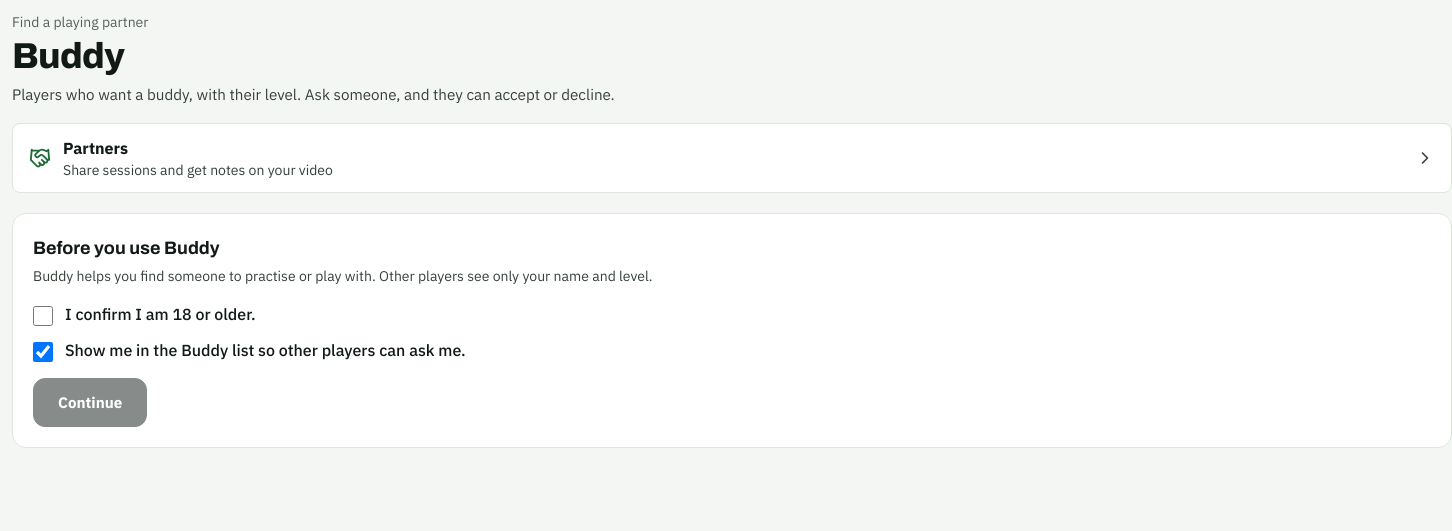
it: Buddy › asks first-time users to confirm 18+ and whether to be listed
Expected: the button "Continue" is disabled, top-left (33, 378), bottom-right (147, 427)
Click the checkbox labelled "I confirm I am 18 or older." at point(43, 316), box top-left (33, 306), bottom-right (53, 326)
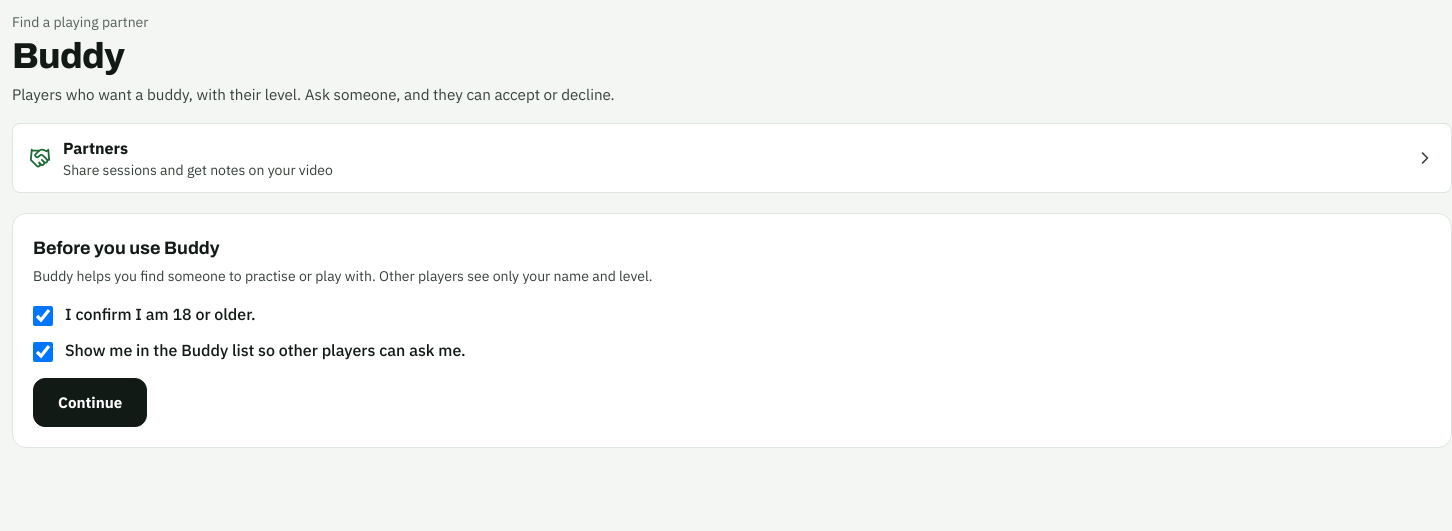
Click the button "Continue" at point(90, 402), box top-left (33, 378), bottom-right (147, 427)
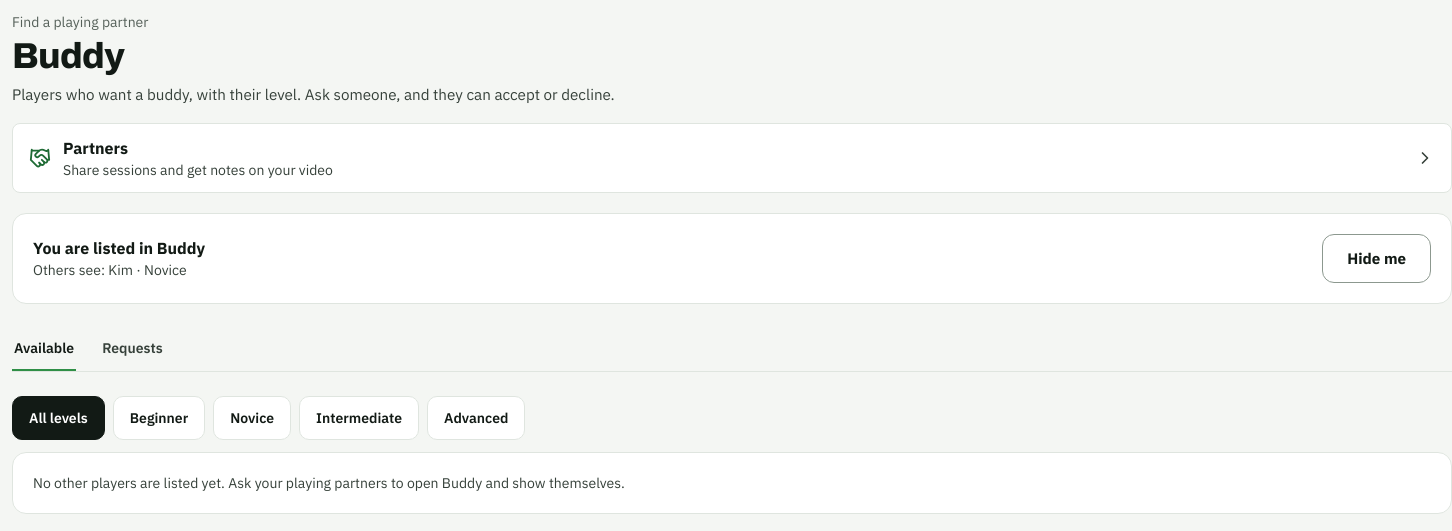
Now the text "You are listed in Buddy" is shown, box top-left (33, 236), bottom-right (205, 260)
